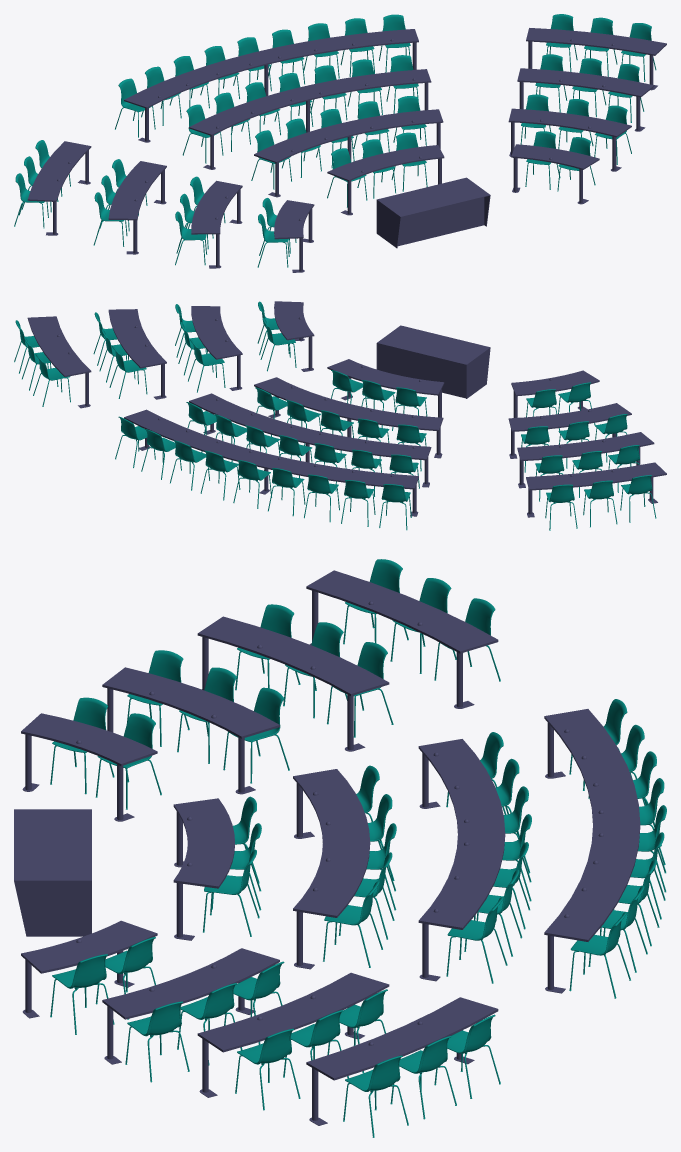
File: Table and chair_01.fbx
3 views of the same model, one above another, from view 1: azimuth 30°, elevation 25°; view 2: azimuth 150°, elevation 25°; view 3: azimuth 270°, elevation 25° (orthographic). The views are drawn at different scales.
Parts seen in each view (by area): view 1: Table, Chairs; view 2: Table, Chairs; view 3: Table, Chairs.
Part boxes in pixels (<box>): Table: <box>27,28,666,272</box>; Chairs: <box>14,14,656,267</box>; Table: <box>27,301,666,517</box>; Chairs: <box>14,301,656,530</box>; Table: <box>14,570,640,1125</box>; Chairs: <box>50,559,666,1137</box>.
Bounding box in the file's own units: 89.42 × 7.44 × 48.34.
